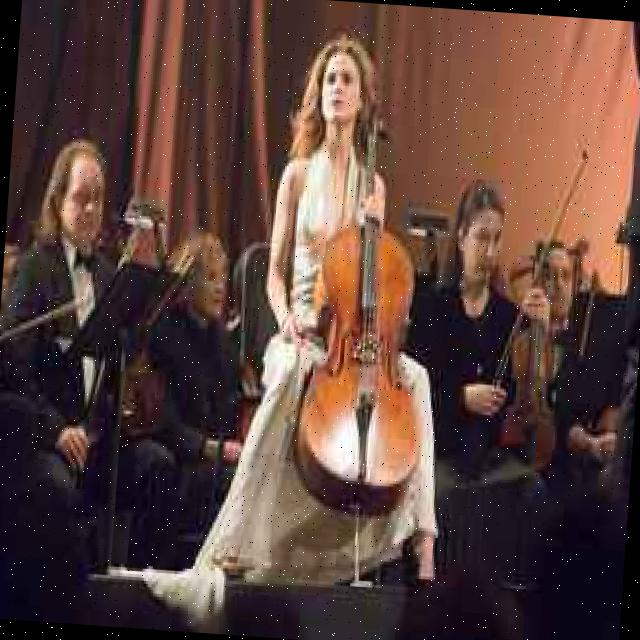cello: (286, 98, 444, 520)
violin: (498, 232, 574, 468)
